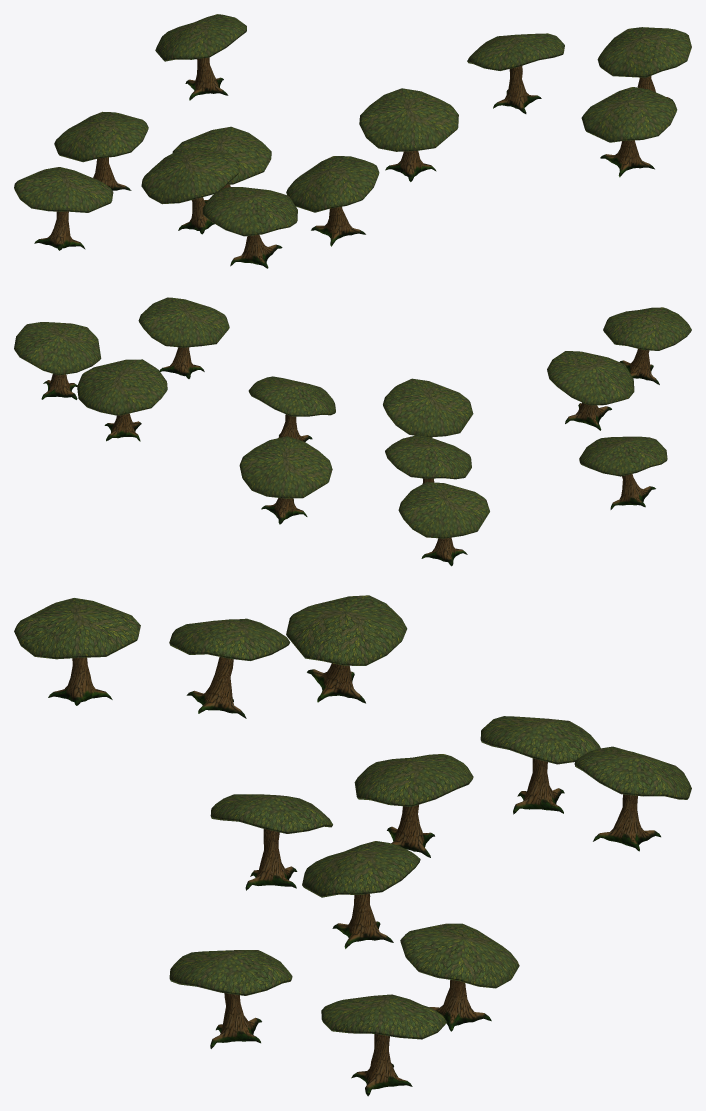
The model's file is BananaIslandTreesShape.dae.
The picture shows the model from 3 angles, top to bottom: view 1: azimuth 30°, elevation 25°; view 2: azimuth 150°, elevation 25°; view 3: azimuth 270°, elevation 25°; orthographic projection. The views are drawn at different scales.
Visible parts, largest first — view 1: BananaIslandTrees; view 2: BananaIslandTrees; view 3: BananaIslandTrees.
Part boxes in pixels (box(x1,y1,x2,y2)): BananaIslandTrees: box(14, 14, 691, 268); BananaIslandTrees: box(14, 297, 691, 566); BananaIslandTrees: box(14, 595, 691, 1096).
Bounding box in the file's own units: 175 × 33.7 × 120.
